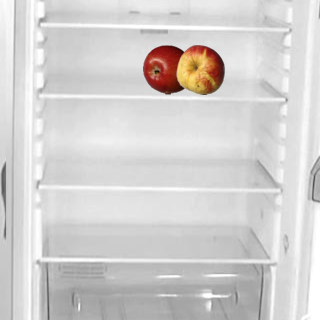Apple Braeburn: (142, 44, 192, 94)
Apple Red Yellow 1: (175, 44, 225, 94)
